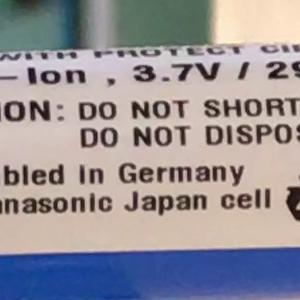keyword: (123, 53, 227, 92)
